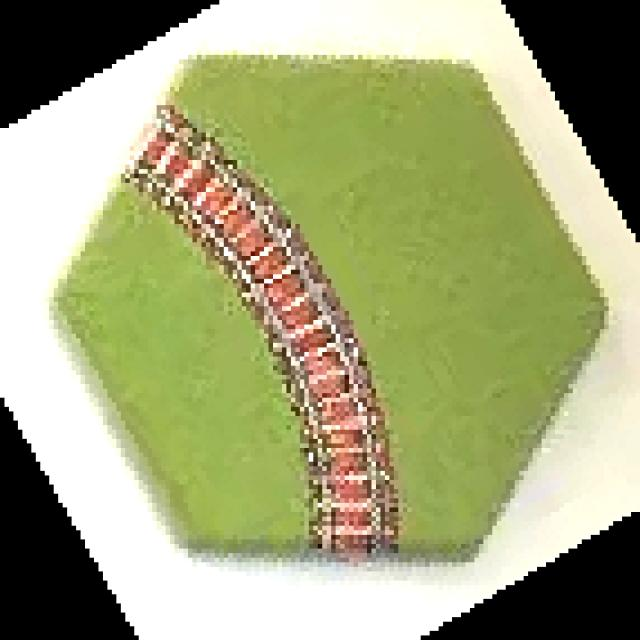2_5: (44, 52, 611, 568)
